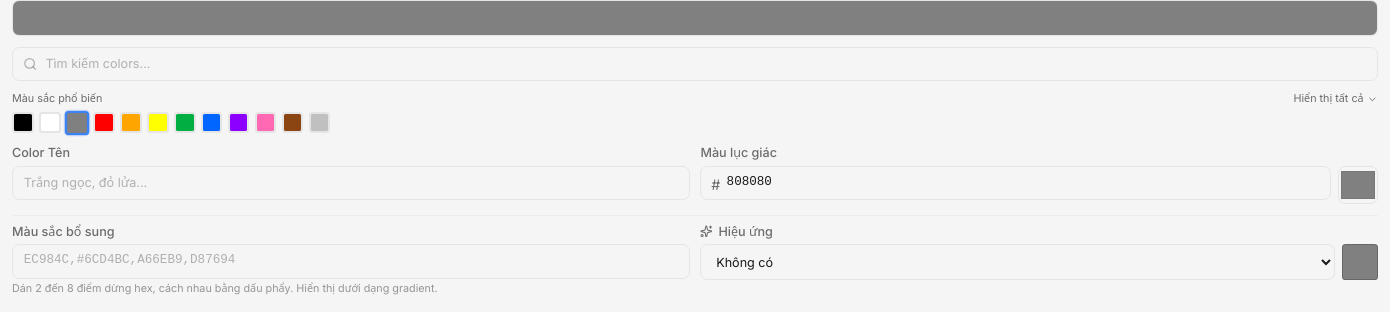
Test: ColorSection hex input — backend invariant (#1055) › truncates paste of 7–8 chars to the leading RGB triplet
Replace the text in the field with placeholder "RRGGBB" with "0011223344" at point(1016, 183), box [700,166,1331,200]
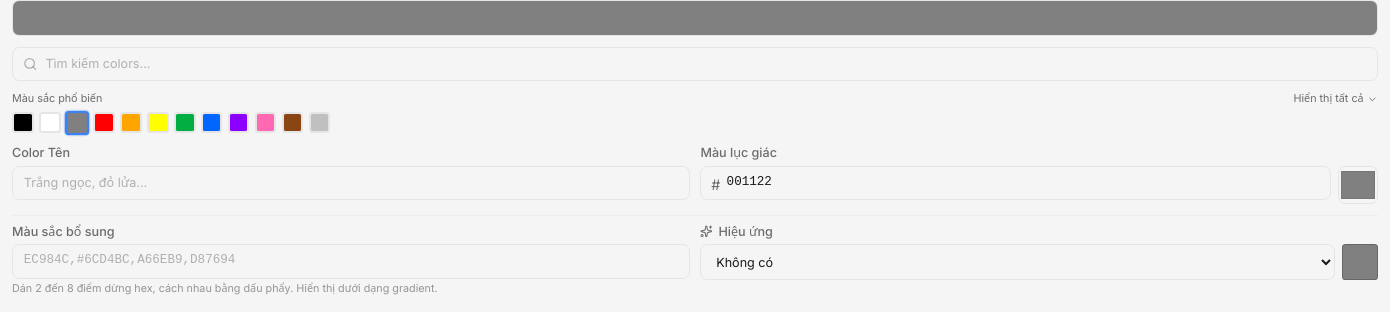
Now the field with placeholder "RRGGBB" holds "001122", box [700,166,1331,200]
